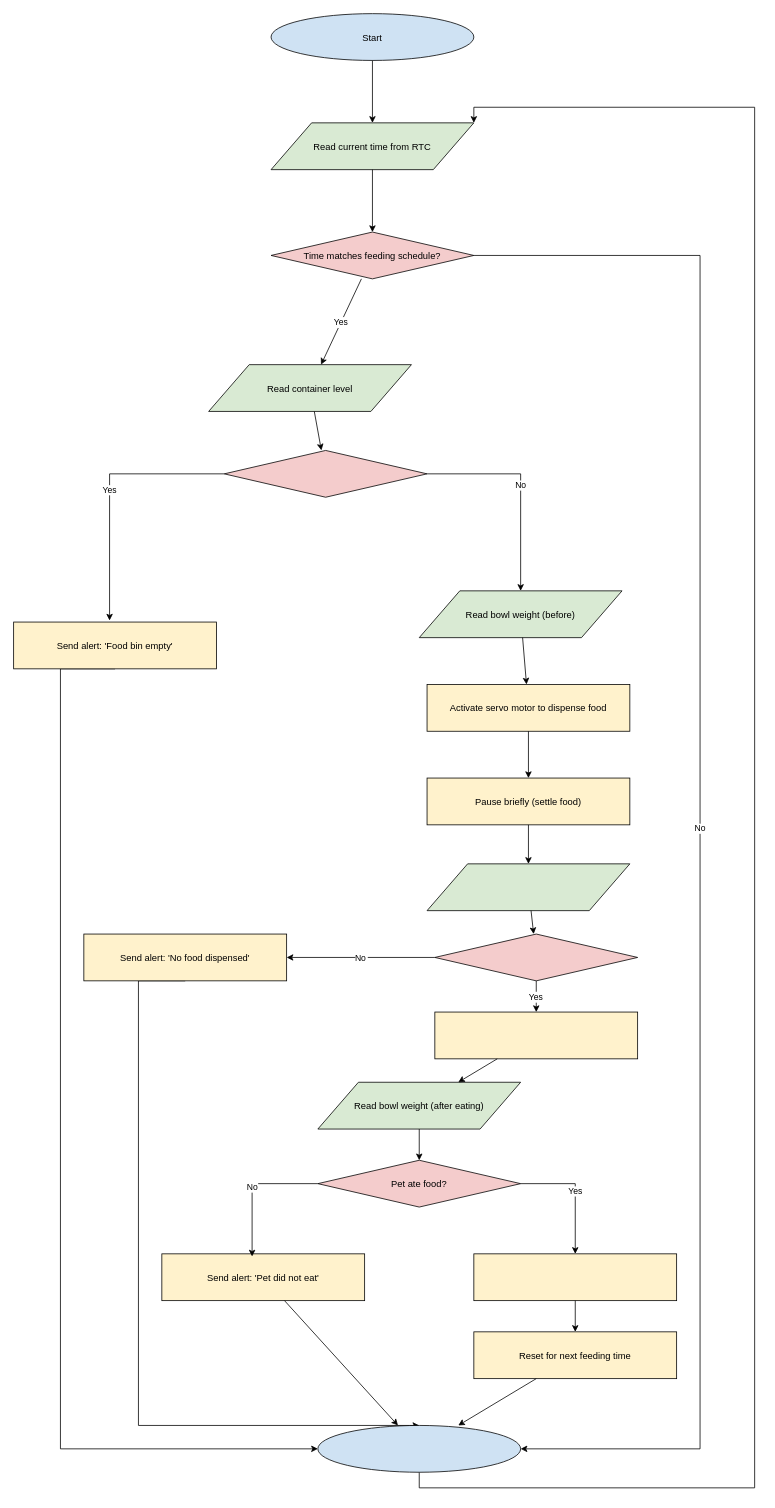
Some shapes in this 775 by 1508 pixel diagram are drawn without their labels. Here are the shapes that lost their labels. From the top down, the box of each, then its label:
(223, 450, 427, 497): Food enough for this time feeding?
(426, 863, 630, 911): Read bowl weight (after dispense)
(434, 933, 638, 981): Weight increase OK?
(434, 1011, 638, 1059): Wait feeding period (10 min)
(473, 1253, 677, 1301): Log successful feeding
(317, 1425, 521, 1472): Return to next loop (back)
